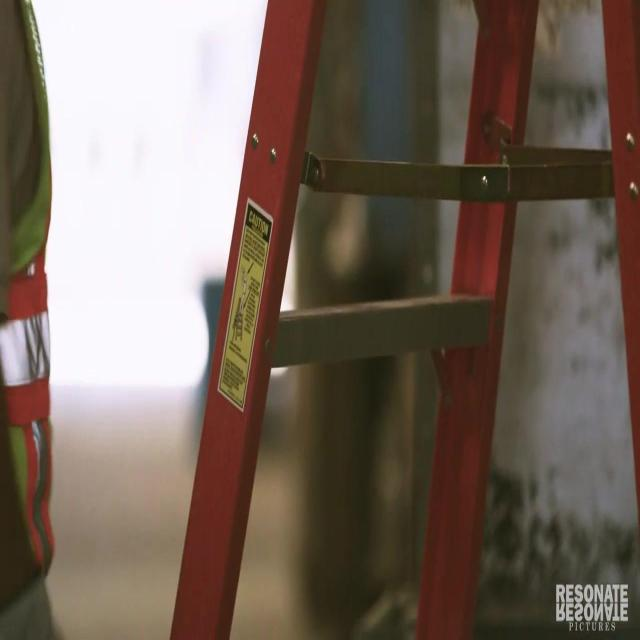Vest: (2, 1, 52, 586)
